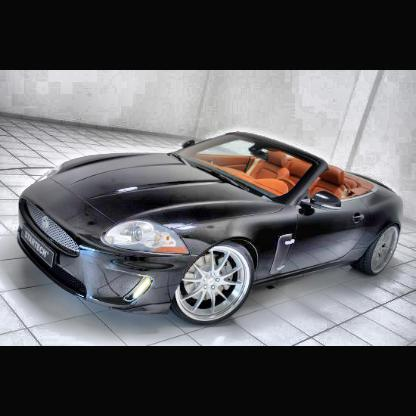Jaguar XK XKR 2012: (19, 131, 406, 326)
